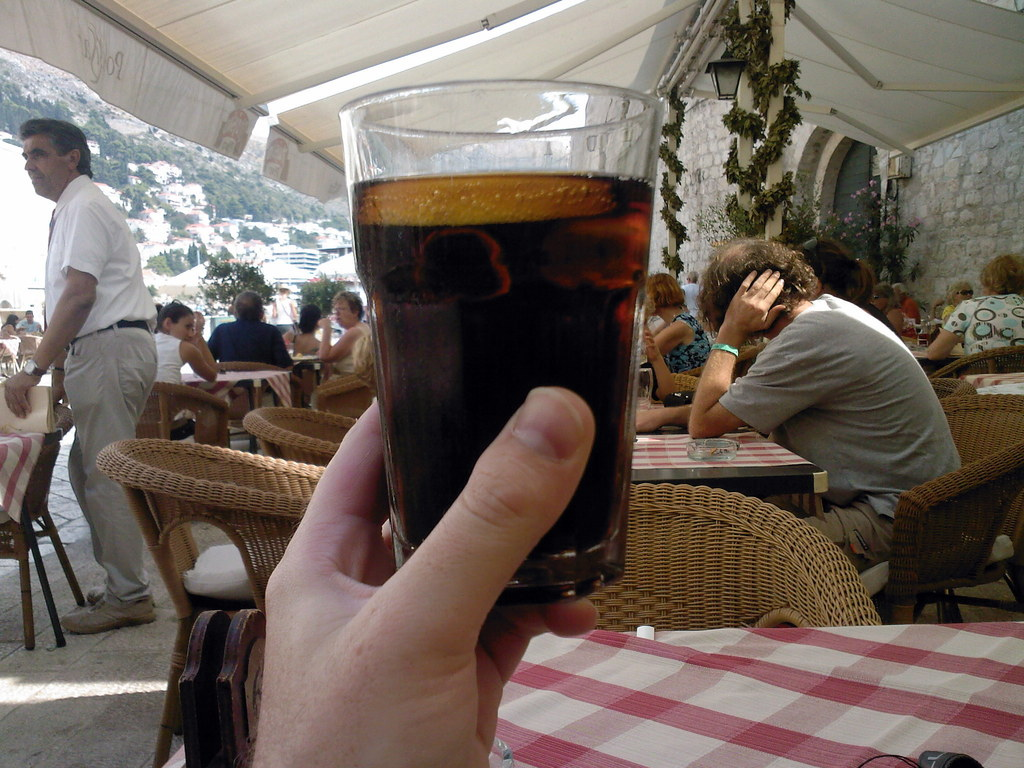Beer: (335, 69, 691, 640)
